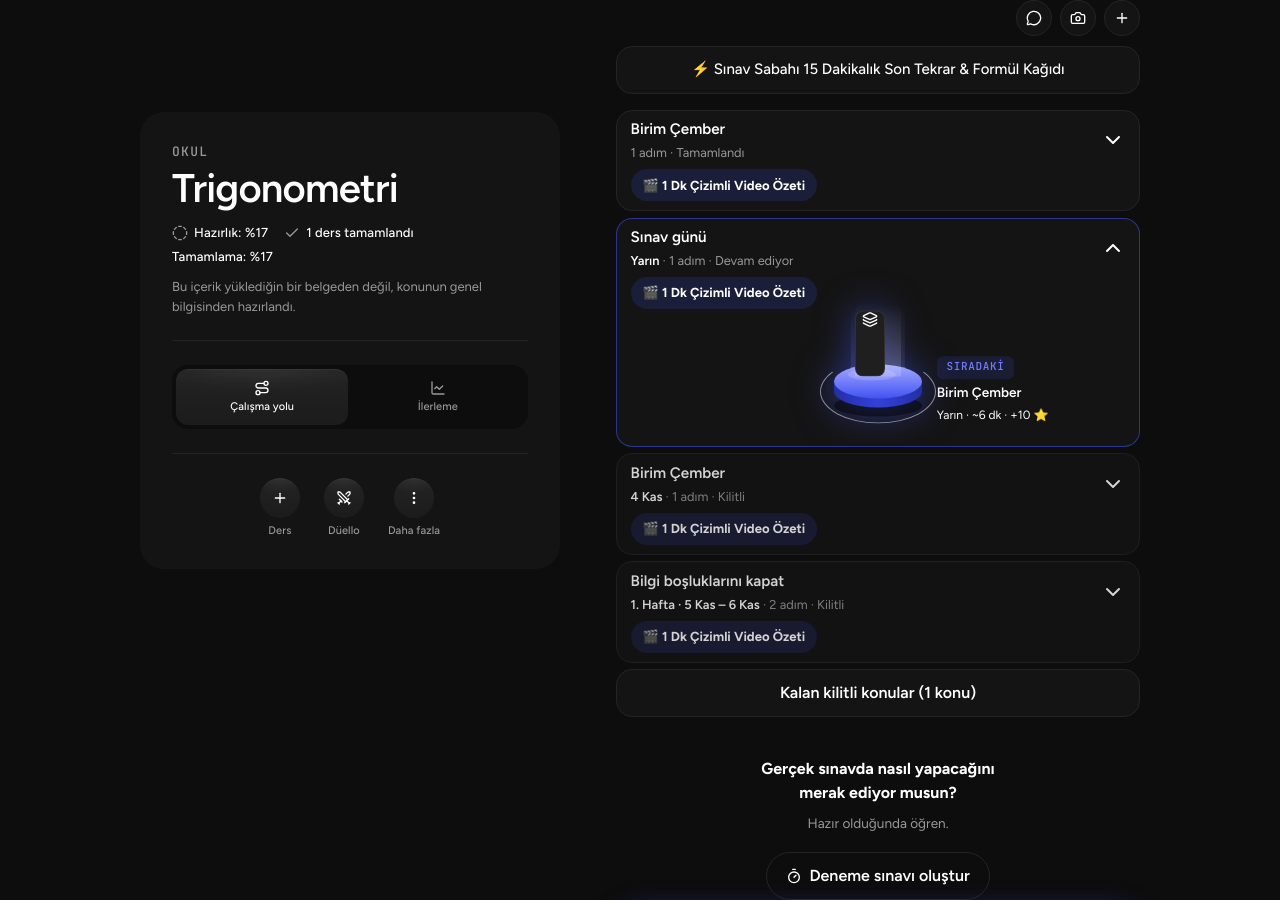
Test case: ders oluştur: Astra gibi üç sekme ve önerilen › sıradaki etkinliğin sekmesinde açılır ve onu Önerilen diye işaretler
Step 1. Click the button with aria-label "Hazırlık seçenekleri" → (414, 508), box top-left (388, 478), bottom-right (440, 538)
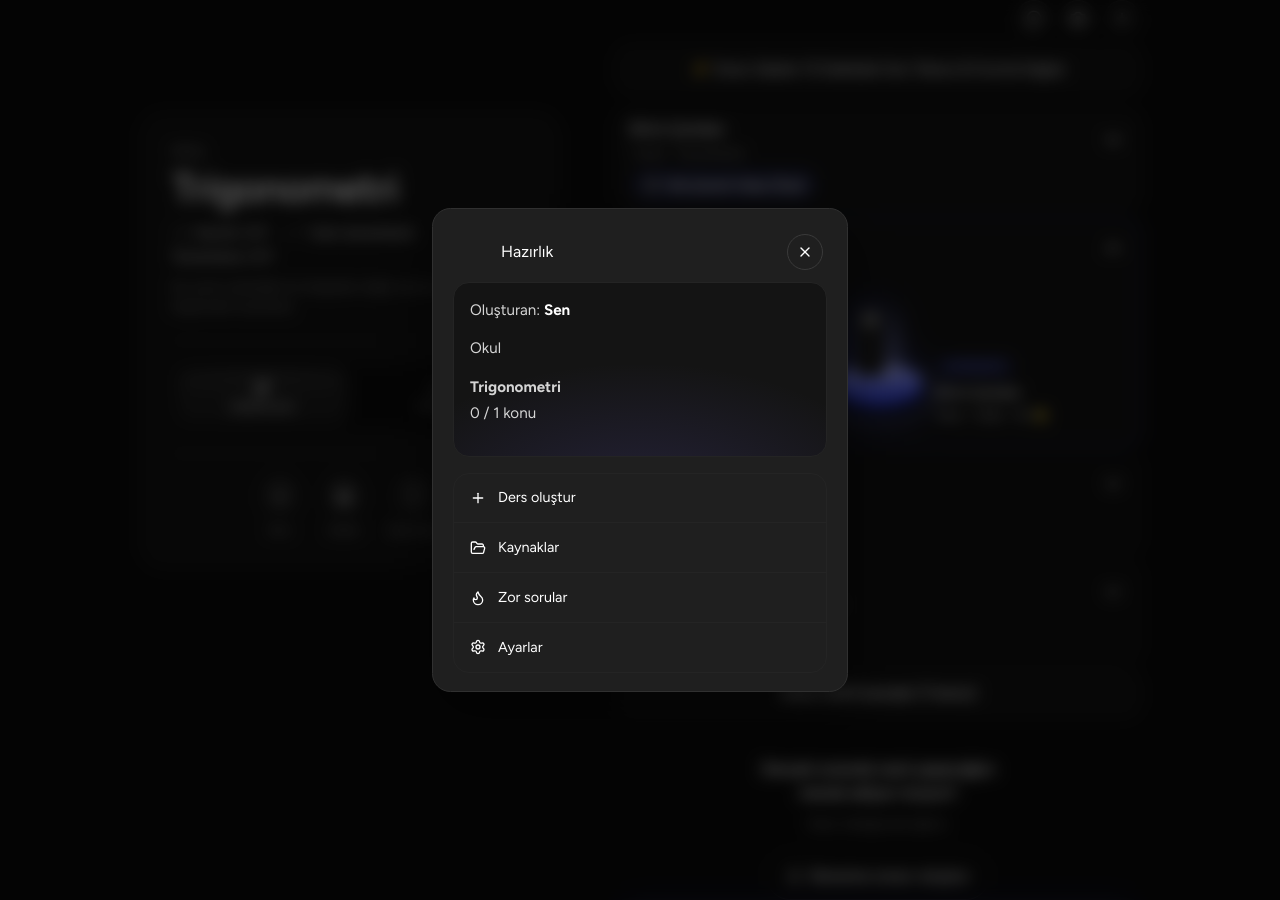
Step 2. Click the button "Ders oluştur" → (537, 497), box top-left (454, 474), bottom-right (826, 522)
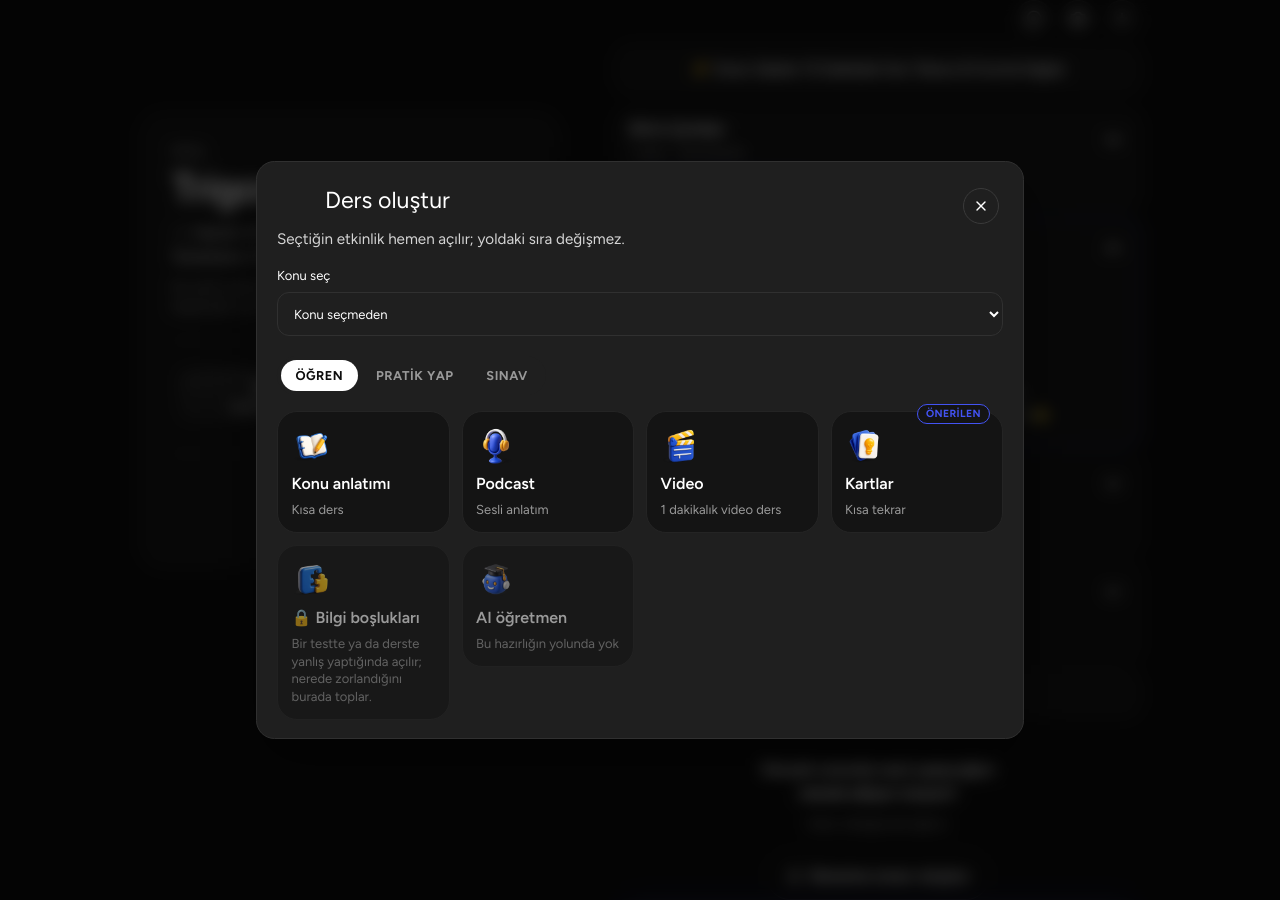
Expected: the link "Önerilen Kartlar Kısa tekrar" is shown, top-left (830, 412), bottom-right (1003, 533)
Expected: the text "🔒 Bilgi boşlukları" is shown, top-left (292, 606), bottom-right (420, 630)
